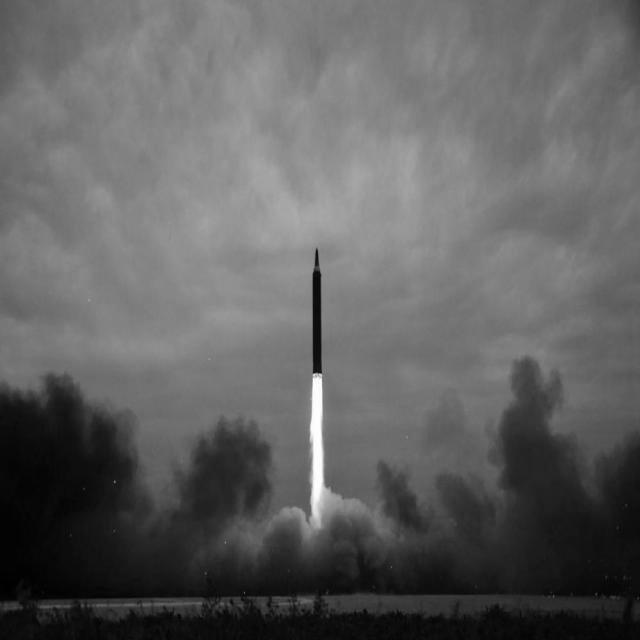missile: (305, 239, 328, 381)
